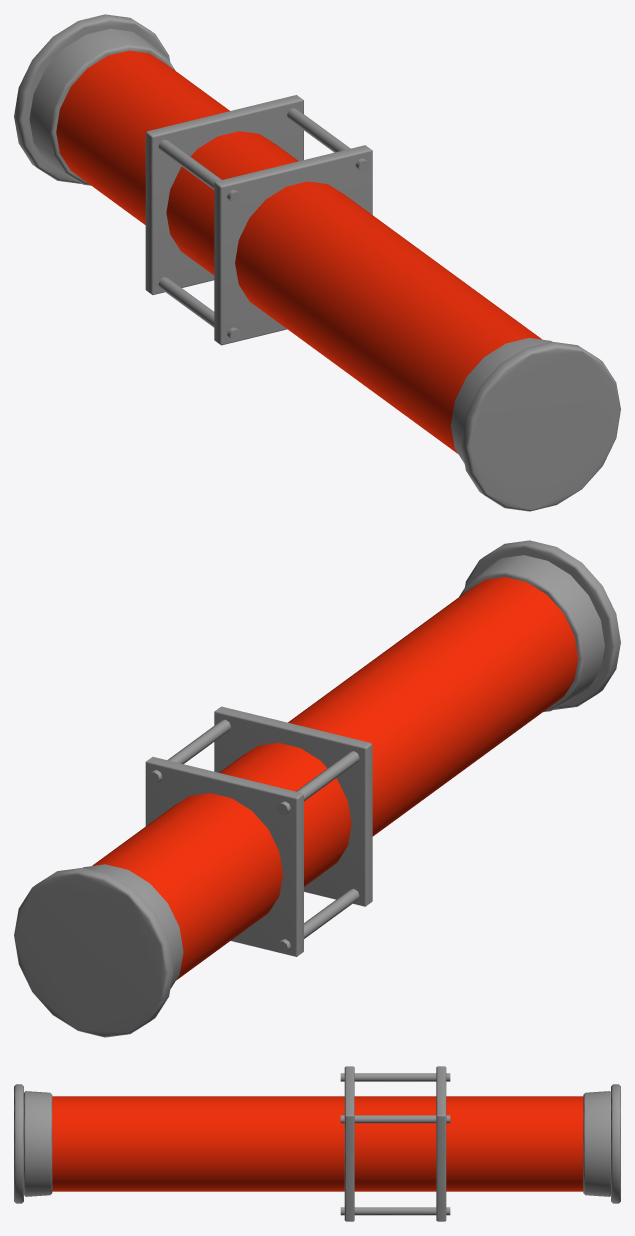
File: StraightPipe_02.FBX
3 renders of one model, top to bottom at view 1: azimuth 30°, elevation 25°; view 2: azimuth 150°, elevation 25°; view 3: azimuth 270°, elevation 25°, orthographic. The views are drawn at different scales.
Visible parts, largest first — view 1: Cylinder001, Cylinder003, Box002, Box001, Cylinder011, Cylinder002, Cylinder012, Cylinder015, Cylinder017, Cylinder016; view 2: Cylinder001, Cylinder002, Box001, Box002, Cylinder012, Cylinder003, Cylinder011, Cylinder015, Cylinder016, Cylinder017; view 3: Cylinder001, Cylinder012, Cylinder011, Box001, Box002, Cylinder002, Cylinder003, Cylinder015, Cylinder016, Cylinder018.
Boxes of the visible parts, left/top/right/bottom form: Cylinder001: left=56, top=50, right=541, bottom=453; Cylinder003: left=461, top=341, right=620, bottom=511; Box002: left=214, top=145, right=372, bottom=345; Box001: left=145, top=95, right=303, bottom=294; Cylinder011: left=29, top=28, right=175, bottom=185; Cylinder002: left=14, top=14, right=170, bottom=183; Cylinder012: left=451, top=338, right=551, bottom=463; Cylinder015: left=158, top=139, right=241, bottom=203; Cylinder017: left=158, top=277, right=241, bottom=341; Cylinder016: left=287, top=108, right=369, bottom=172; Cylinder001: left=92, top=577, right=578, bottom=980; Cylinder002: left=14, top=867, right=173, bottom=1037; Box001: left=145, top=757, right=303, bottom=956; Box002: left=214, top=706, right=372, bottom=906; Cylinder012: left=459, top=555, right=604, bottom=712; Cylinder003: left=465, top=540, right=620, bottom=709; Cylinder011: left=83, top=864, right=183, bottom=988; Cylinder015: left=277, top=751, right=359, bottom=815; Cylinder016: left=148, top=719, right=230, bottom=783; Cylinder017: left=277, top=889, right=359, bottom=952; Cylinder001: left=52, top=1096, right=583, bottom=1191; Cylinder012: left=24, top=1091, right=52, bottom=1196; Cylinder011: left=583, top=1091, right=610, bottom=1196; Box001: left=436, top=1066, right=446, bottom=1221; Box002: left=344, top=1066, right=354, bottom=1221; Cylinder002: left=611, top=1084, right=620, bottom=1203; Cylinder003: left=14, top=1084, right=23, bottom=1203; Cylinder015: left=340, top=1073, right=450, bottom=1081; Cylinder016: left=340, top=1115, right=450, bottom=1123; Cylinder018: left=340, top=1207, right=450, bottom=1215.
Size of the model in its own units: 60.03 by 59.13 by 304.
